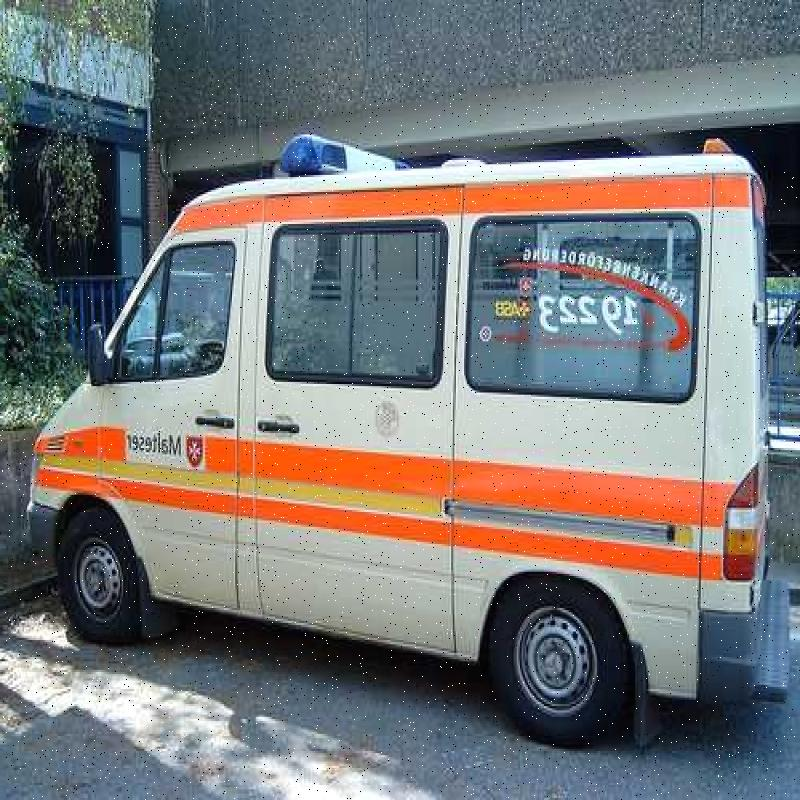AmbulanceSiren: (248, 140, 435, 188)
